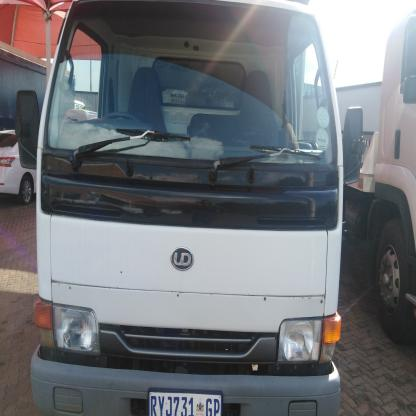dump_truck: (26, 10, 352, 416)
